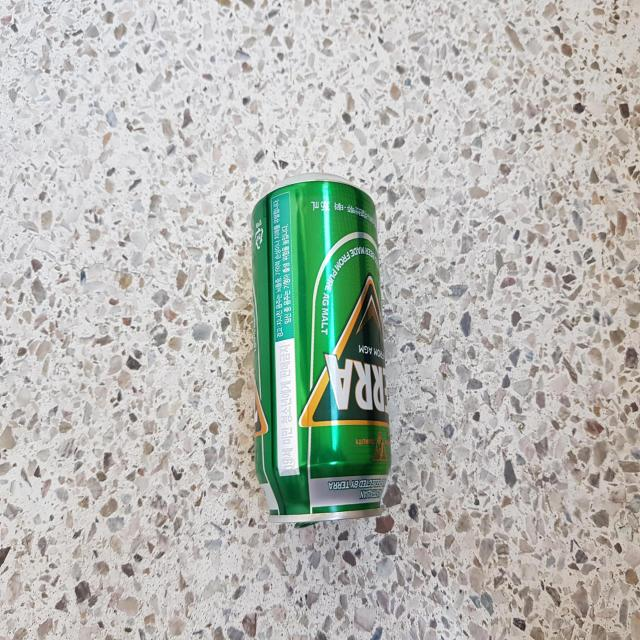can: (252, 173, 392, 525)
